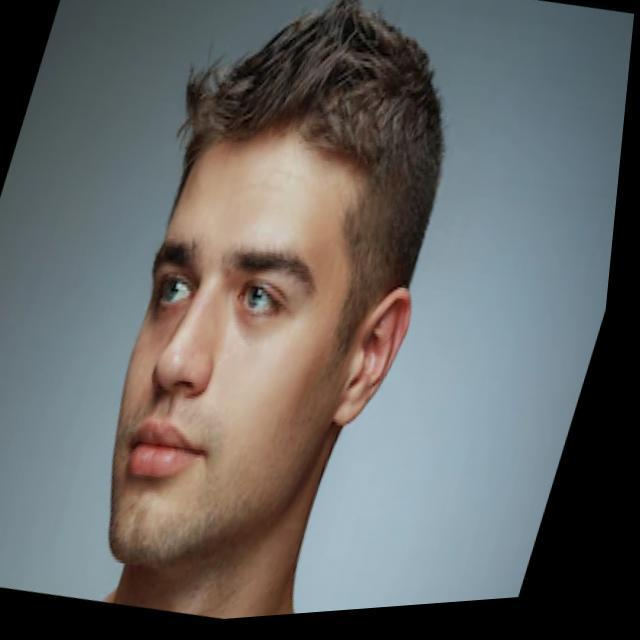Nonhelmet: (101, 1, 449, 571)
